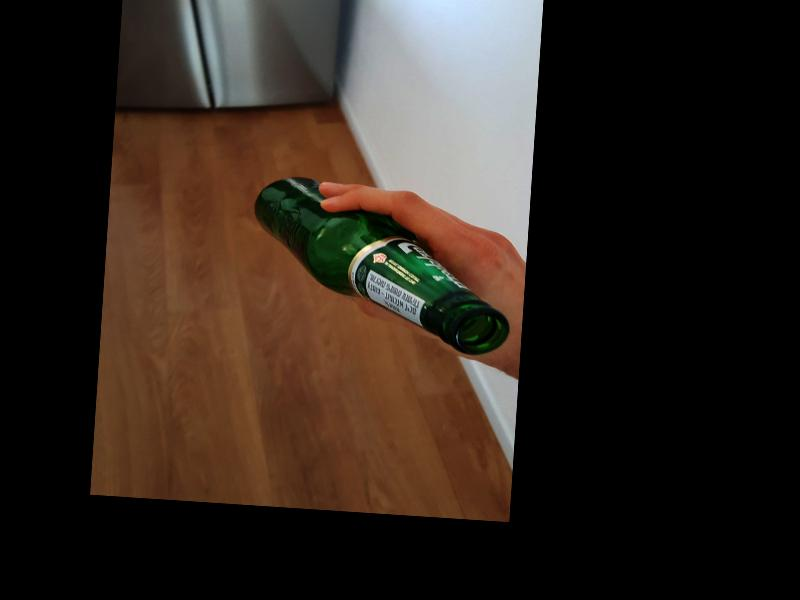Beer: (245, 175, 519, 357)
